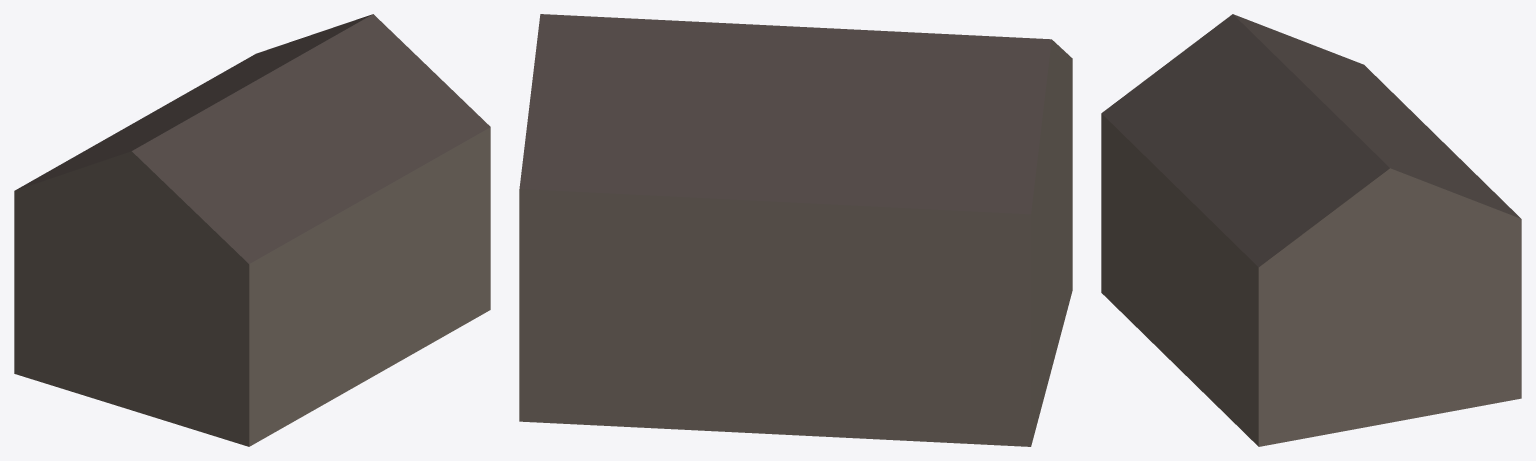
3 views of the same model, side by side, from view 1: azimuth 30°, elevation 25°; view 2: azimuth 150°, elevation 25°; view 3: azimuth 270°, elevation 25° (orthographic). The views are drawn at different scales.
Visible parts, largest first — view 1: HP-w378107200; view 2: HP-w378107200; view 3: HP-w378107200.
Part boxes in pixels (bbox=[...]): HP-w378107200: bbox=[14, 14, 490, 446]; HP-w378107200: bbox=[519, 14, 1072, 446]; HP-w378107200: bbox=[1101, 14, 1521, 446].
Bounding box in the file's own units: 14.53 × 8.51 × 12.73.
